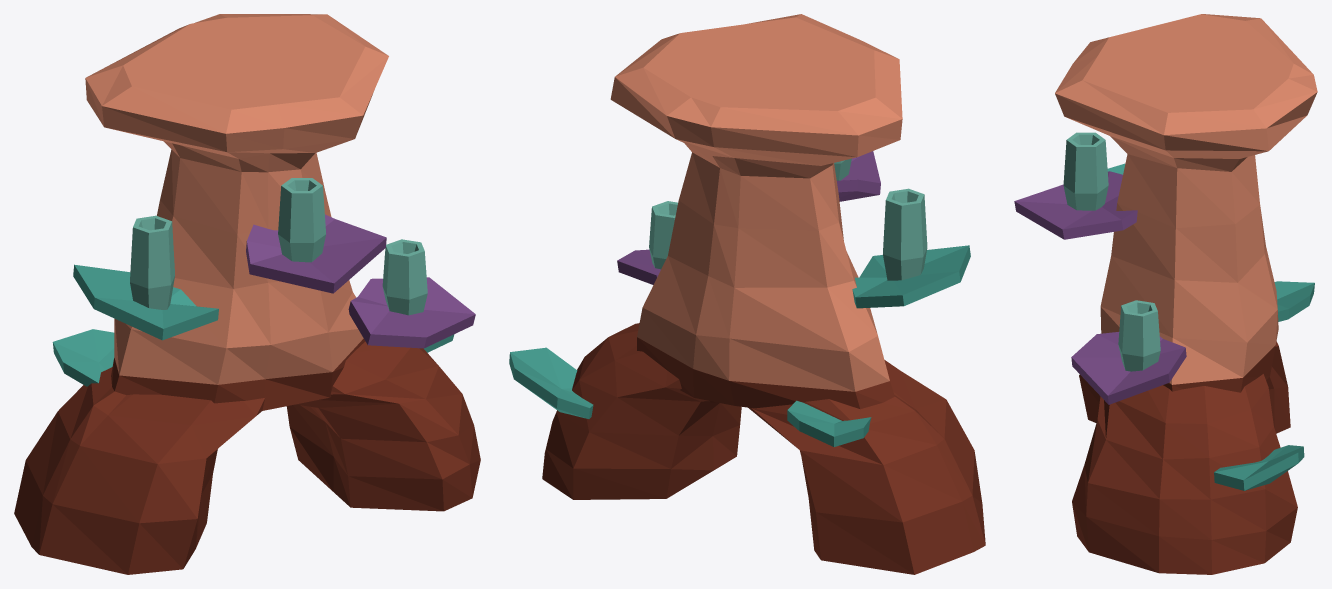
The model's file is pf_coral-bommie-772b22.glb.
3 renders of one model, left to right at view 1: azimuth 30°, elevation 25°; view 2: azimuth 150°, elevation 25°; view 3: azimuth 270°, elevation 25°, orthographic. The views are drawn at different scales.
Parts seen in each view (by area): view 1: coral-bommie-shell; view 2: coral-bommie-shell; view 3: coral-bommie-shell.
Part boxes in pixels (bbox=[...]): coral-bommie-shell: bbox=[14, 14, 480, 574]; coral-bommie-shell: bbox=[509, 14, 985, 574]; coral-bommie-shell: bbox=[1014, 14, 1317, 574].
Bounding box in the file's own units: 3.24 × 3 × 2.01.
